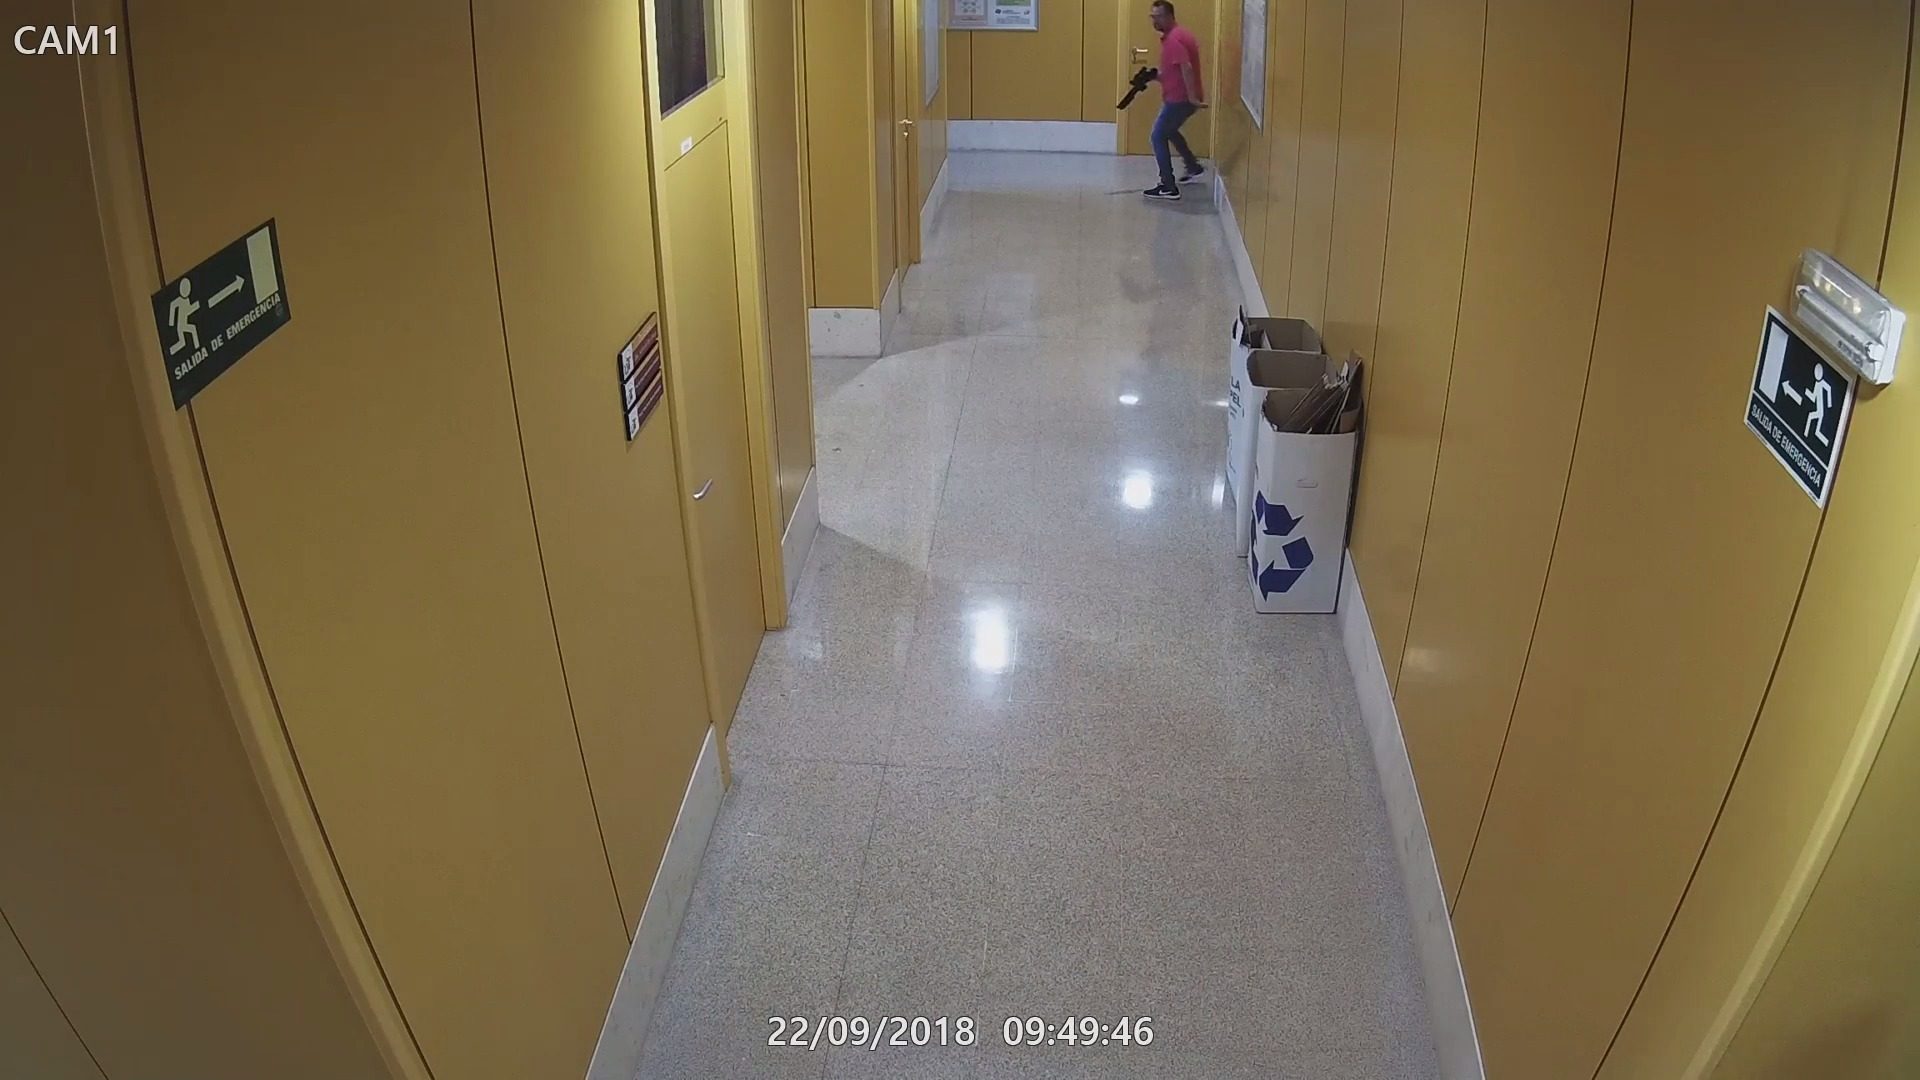Short_rifle: (1114, 67, 1164, 115)
